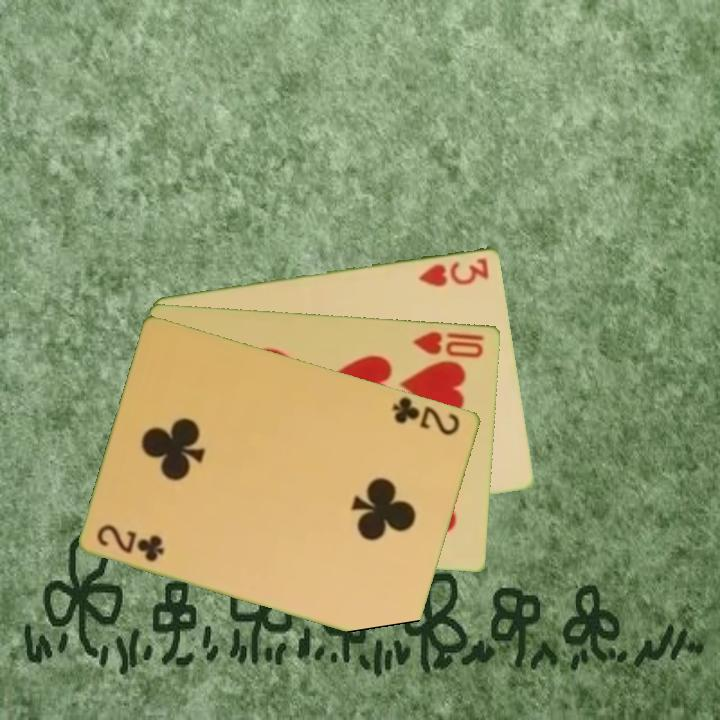10h: (410, 328, 487, 361)
2c: (389, 393, 464, 438), (94, 520, 168, 565)
3h: (415, 253, 492, 289)
